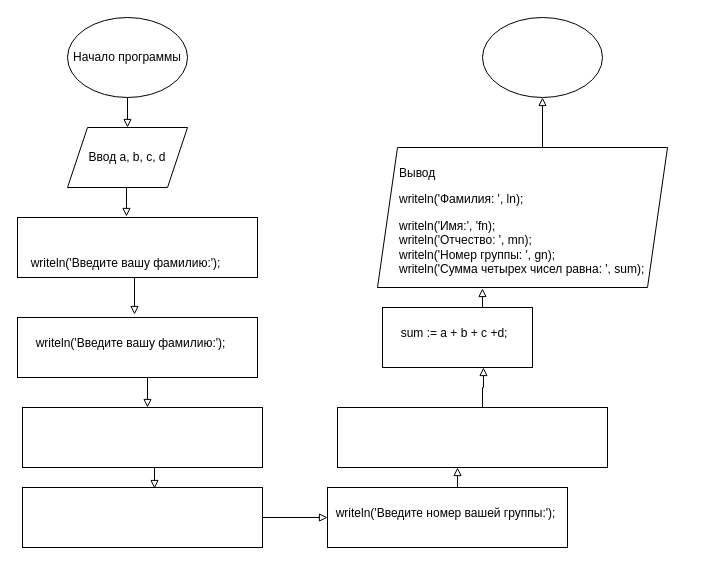
This 705x565 diagram has some shape labels left out. Each missing label, with the centre of its shape:
writeln('Введите ваше имя:');: [142,437]
writeln('Введите ваше отчество:');: [142,517]
writeln('Введите четыре числа через пробел:');: [472,437]
Конец программмы: [542,57]
